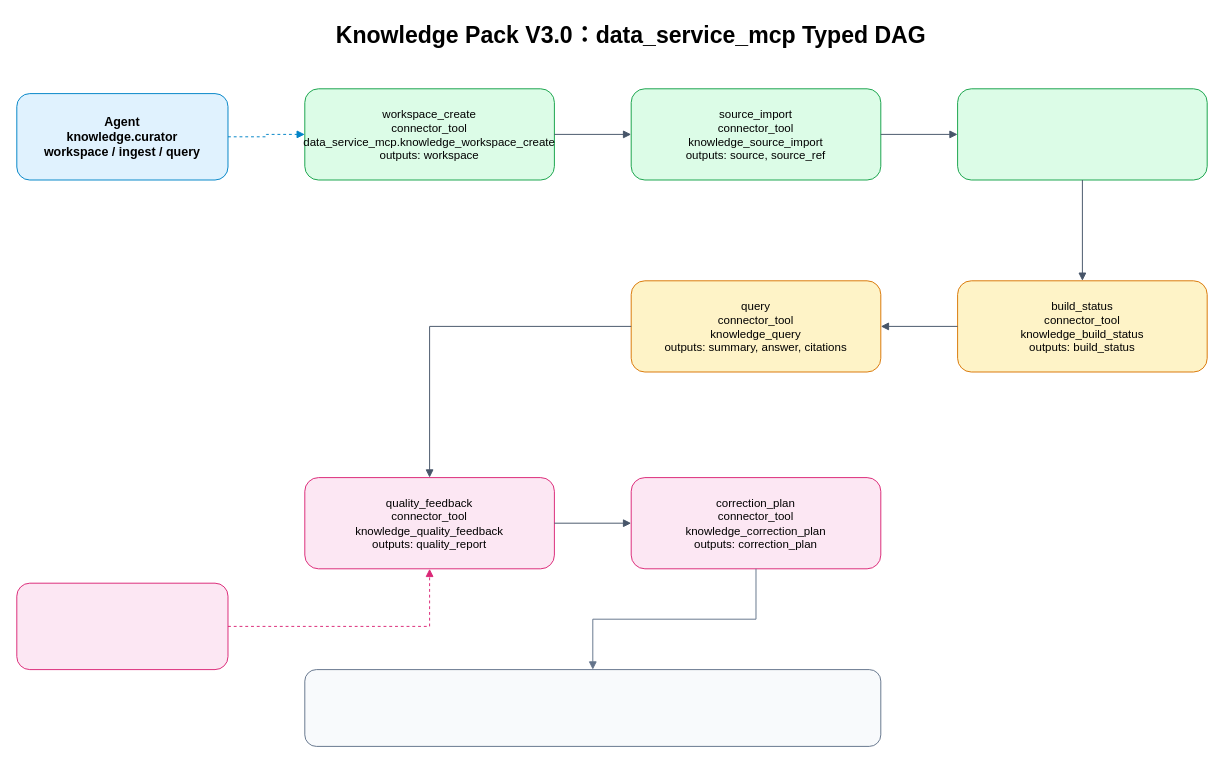
Image size: 1224x763. Some labels were removed from this diagram. Here are the shapes that lost their labels. From the top down, the centre of each, then its label:
the point at 1082,134: build_start connector_tool knowledge_build_start outputs: build_id
the point at 122,626: Agent knowledge.quality_reviewer quality / correction
the point at 592,707: Artifact lineage source → summary → quality_report → correction_plan
